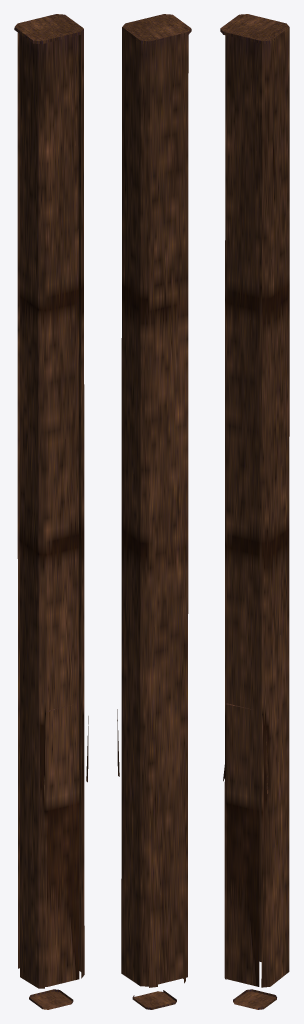
Rendered from balk_vertical.gltf.
The picture shows the model from 3 angles, left to right: view 1: azimuth 30°, elevation 25°; view 2: azimuth 210°, elevation 25°; view 3: azimuth 330°, elevation 25°; orthographic projection.
Parts seen in each view (by area): view 1: Table_wood_0.003; view 2: Table_wood_0.003; view 3: Table_wood_0.003.
Boxes of the visible parts, left/top/right/bottom form: Table_wood_0.003: left=14, top=14, right=88, bottom=1009; Table_wood_0.003: left=117, top=14, right=191, bottom=1009; Table_wood_0.003: left=220, top=14, right=289, bottom=1009.
Size of the model in its own units: 66.38 by 1215 by 59.82.
1 material, 1 textured.
